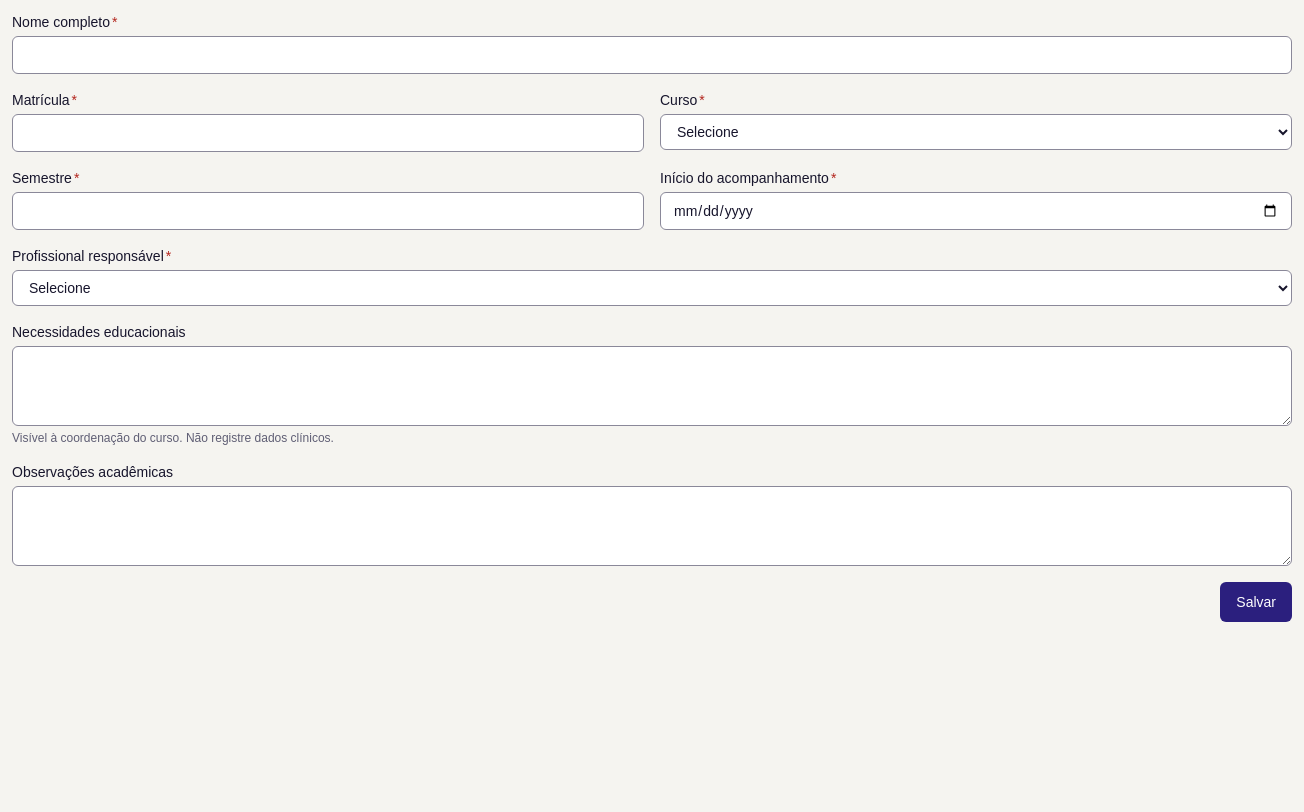
AlunoForm › semestre_vazio_nao_vira_zero
Type "Maria Clara Souza" into the field labelled "Nome completo*" at point(652, 55), box [12,36,1292,74]
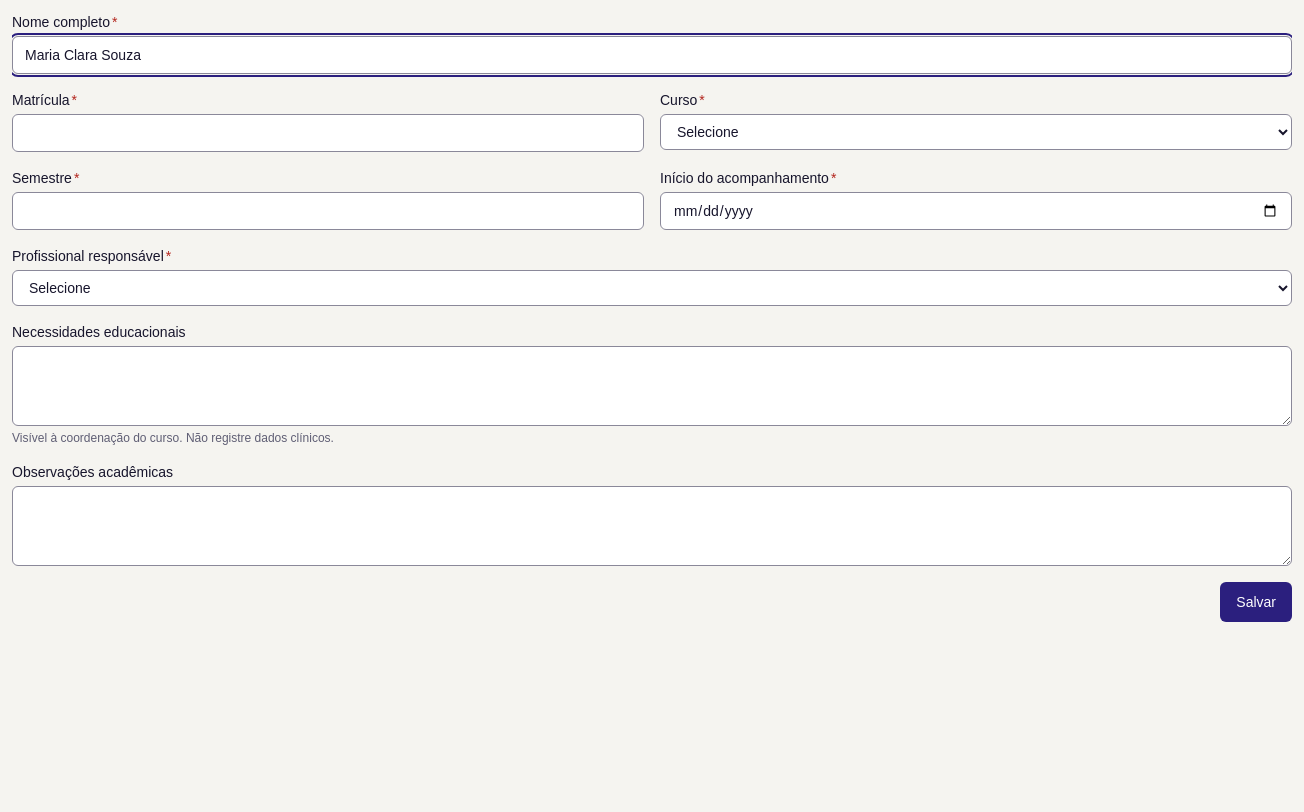
Type "2026.0001" into the field labelled "Matrícula*" at point(328, 133), box [12,114,644,152]
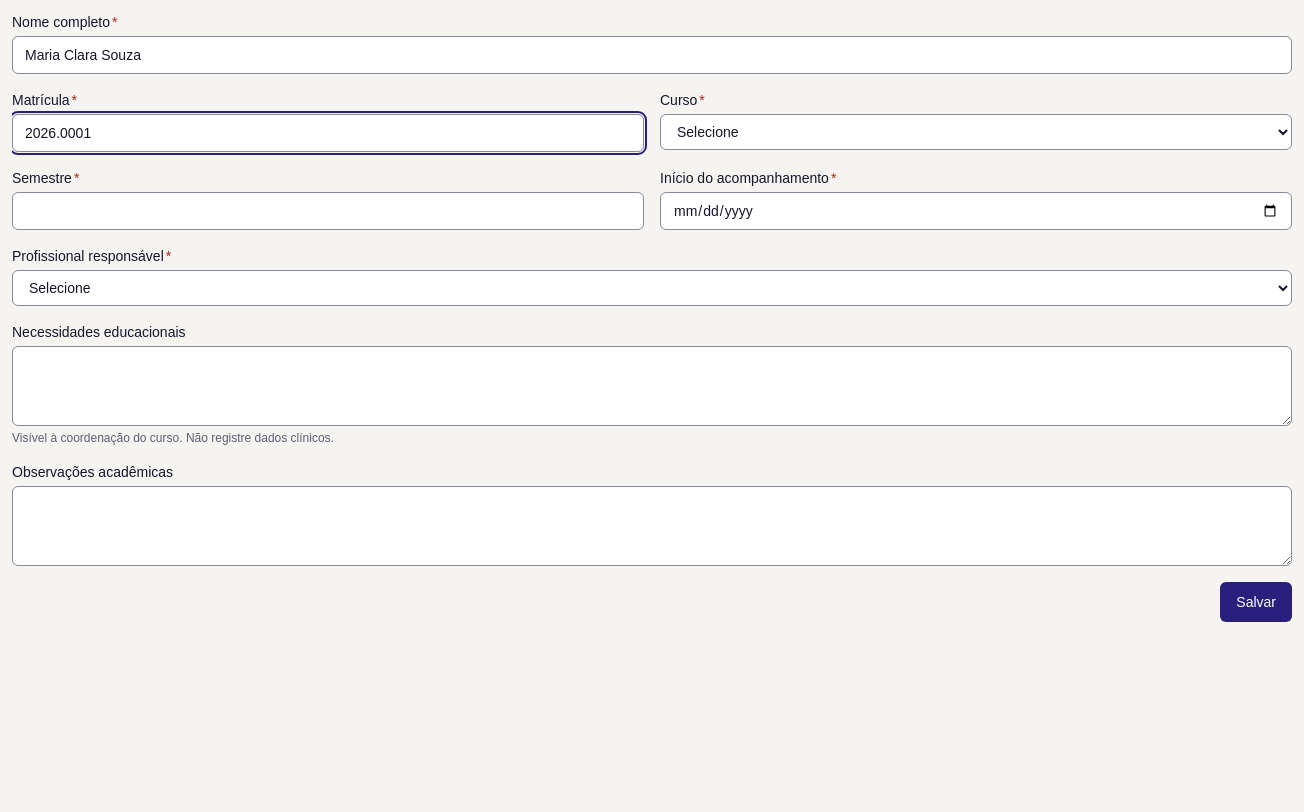
Select "Direito" in the dropdown labelled "Curso*" at point(976, 132), box [660,114,1292,150]
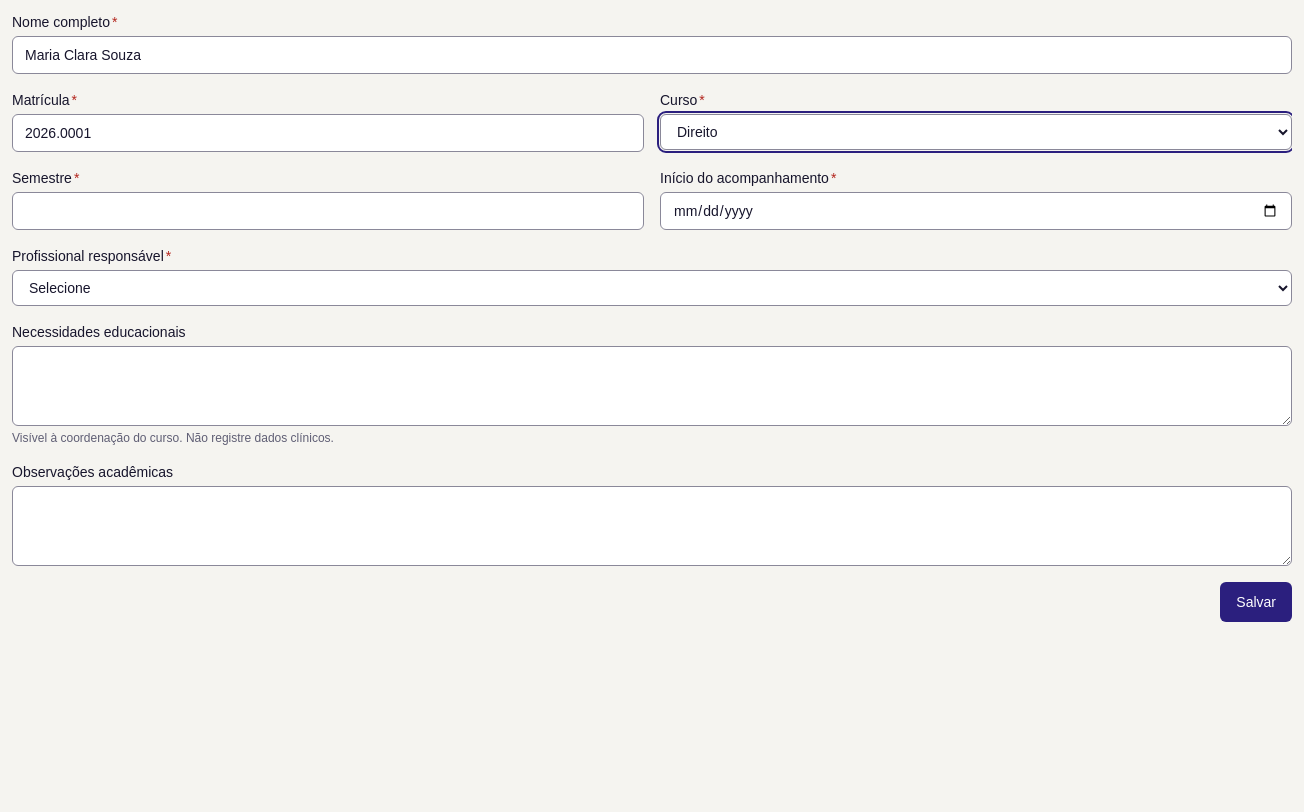
Type "2026-03-02" into the date field labelled "Início do acompanhamento*" at point(976, 211), box [660,192,1292,230]
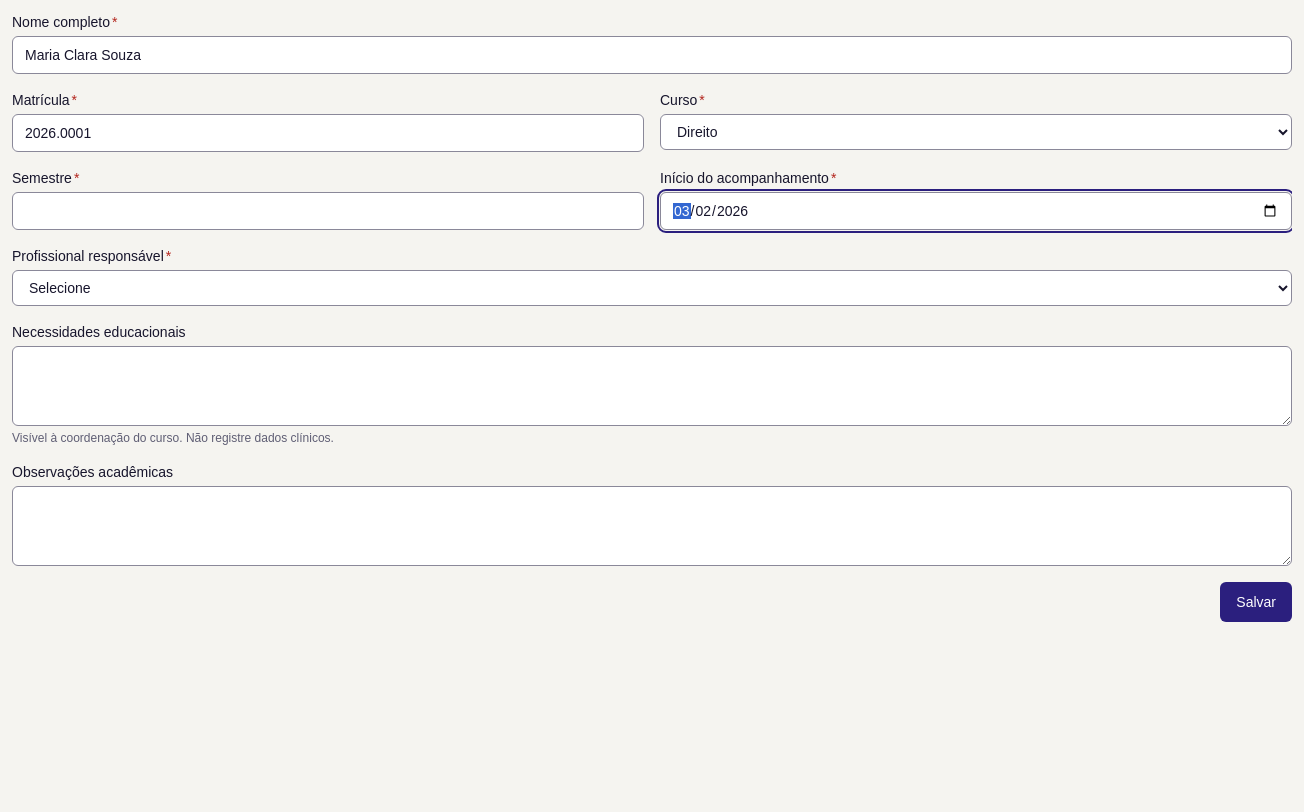
Select "Ana Souza" in the dropdown labelled "Profissional responsável*" at point(652, 288), box [12,270,1292,306]
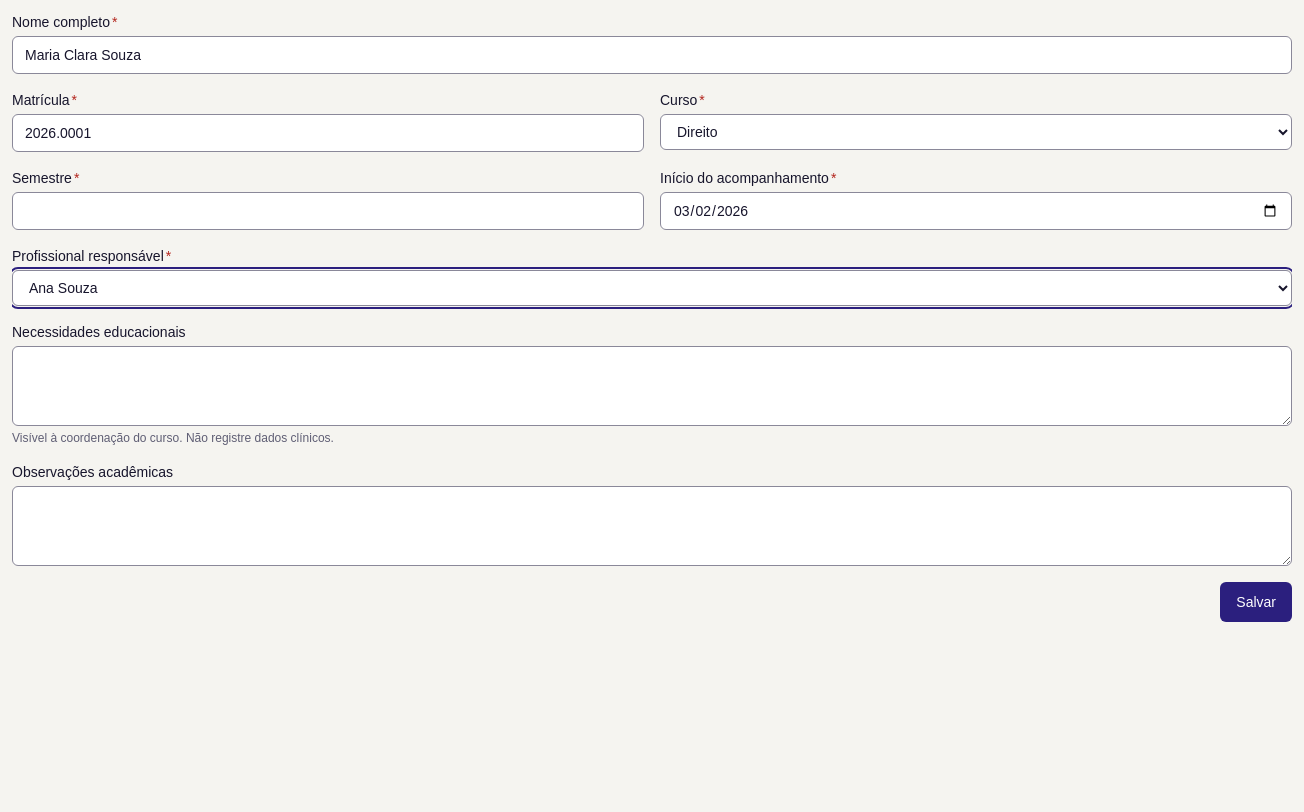
Click the button "Salvar" at point(1256, 602), box [1220,582,1292,622]
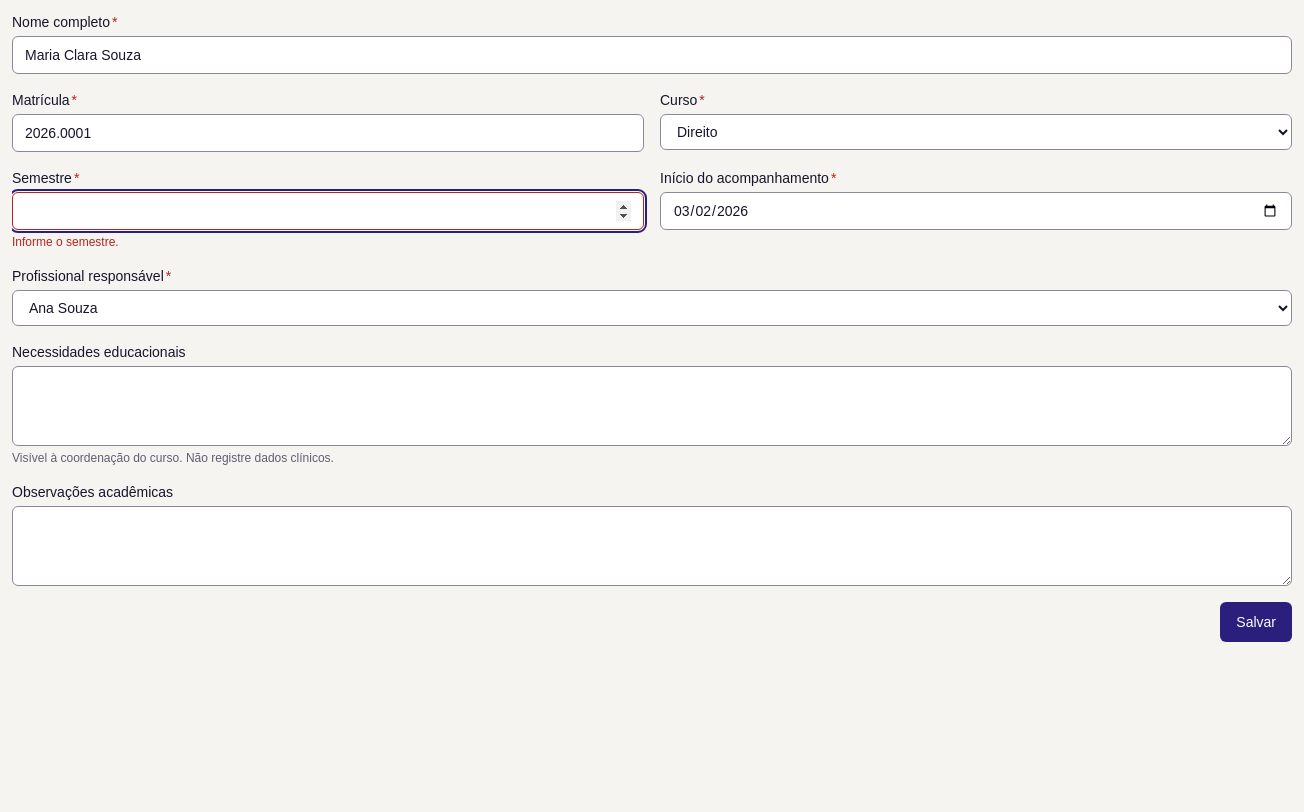
Check: the text "Informe o semestre." is shown, box [12,235,119,249]
